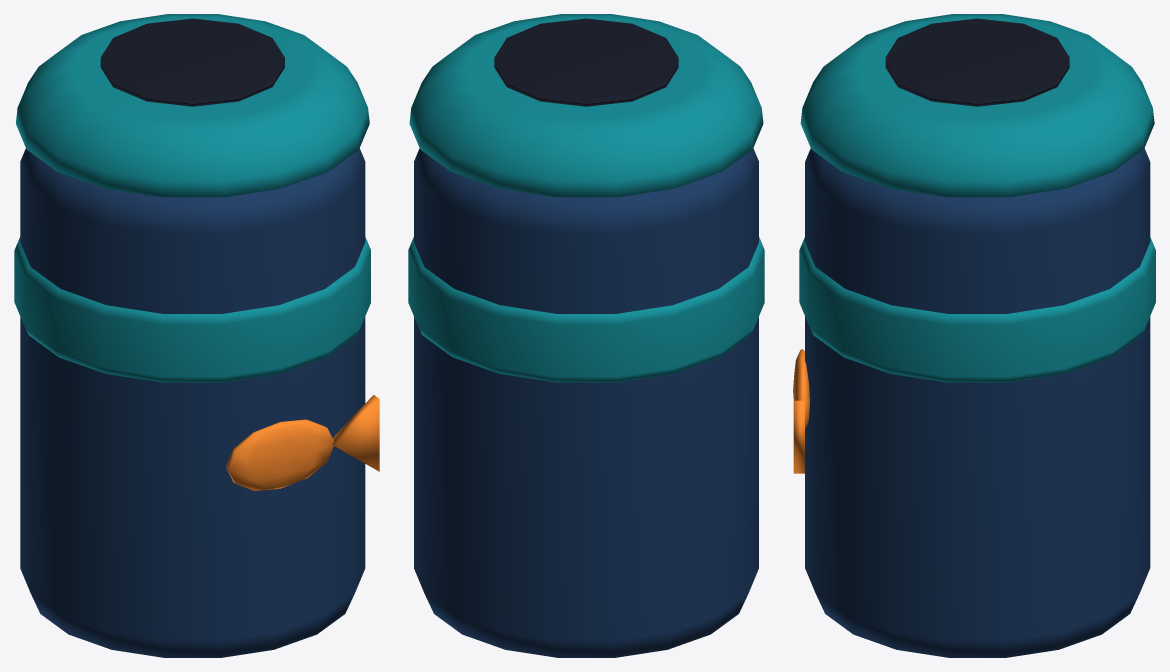
Rendered from aqua_bin.glb.
3 renders of one model, left to right at view 1: azimuth 30°, elevation 25°; view 2: azimuth 150°, elevation 25°; view 3: azimuth 270°, elevation 25°, orthographic.
Parts seen in each view (by area): view 1: Bin; view 2: Bin; view 3: Bin.
Part boxes in pixels (box(x1,y1,x2,y2)): Bin: box(14, 14, 379, 657); Bin: box(408, 14, 764, 657); Bin: box(793, 14, 1155, 657).
Bounding box in the file's own units: 0.6106 × 1.04 × 0.631.
